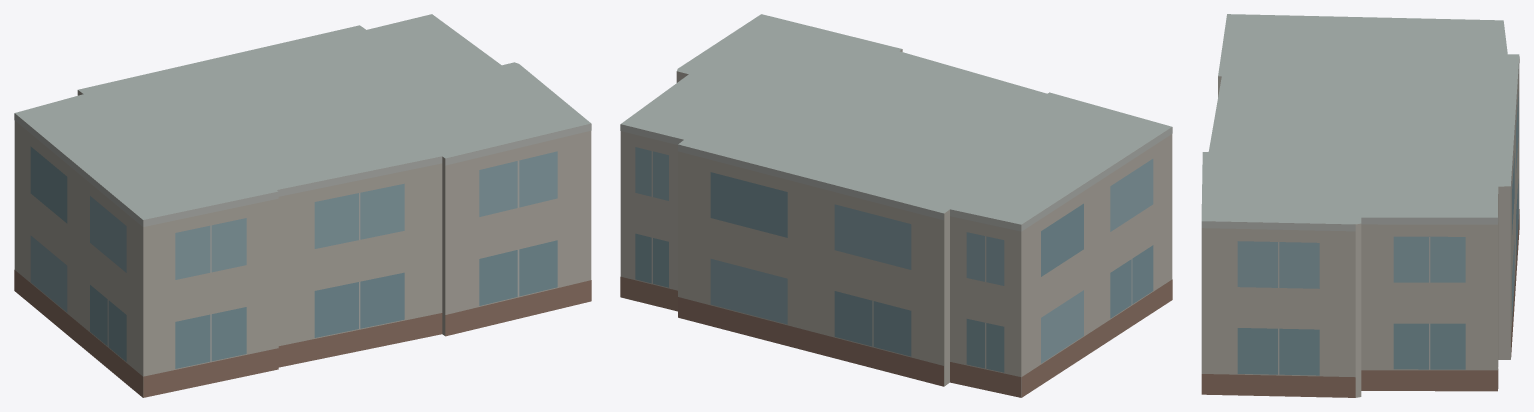
Rendered from survey-upis-32678184.glb.
The picture shows the model from 3 angles, left to right: view 1: azimuth 30°, elevation 25°; view 2: azimuth 150°, elevation 25°; view 3: azimuth 270°, elevation 25°; orthographic projection. The views are drawn at different scales.
Visible parts, largest first — view 1: survey-upis-32678184.tmp; view 2: survey-upis-32678184.tmp; view 3: survey-upis-32678184.tmp.
Boxes of the visible parts, box(x1,y1,x2,y2) form: survey-upis-32678184.tmp: box(14, 14, 591, 397); survey-upis-32678184.tmp: box(620, 14, 1172, 397); survey-upis-32678184.tmp: box(1201, 14, 1519, 397).
Size of the model in its own units: 15.88 by 6.1 by 10.14.
